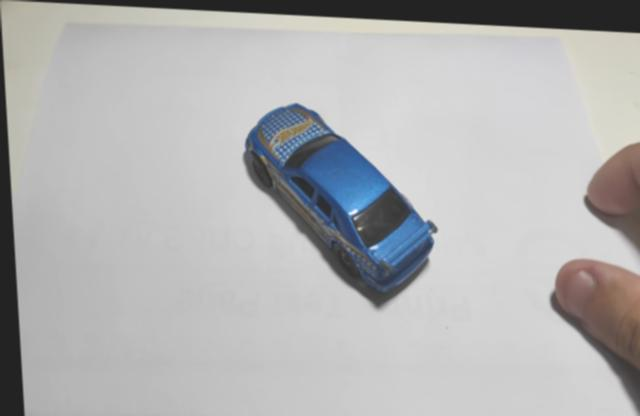04_MERZEDES: (240, 101, 434, 308)
